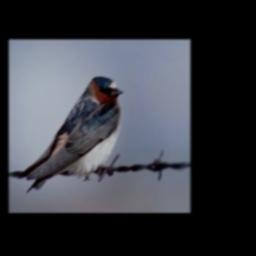Swallow: (18, 75, 122, 196)
